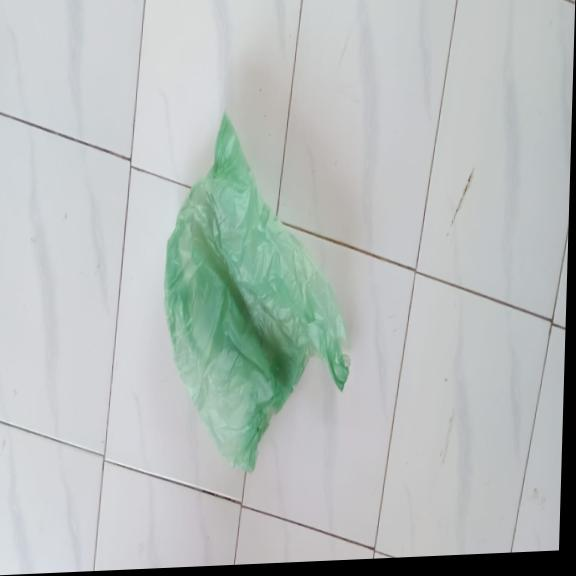Plastik: (156, 104, 357, 478)
